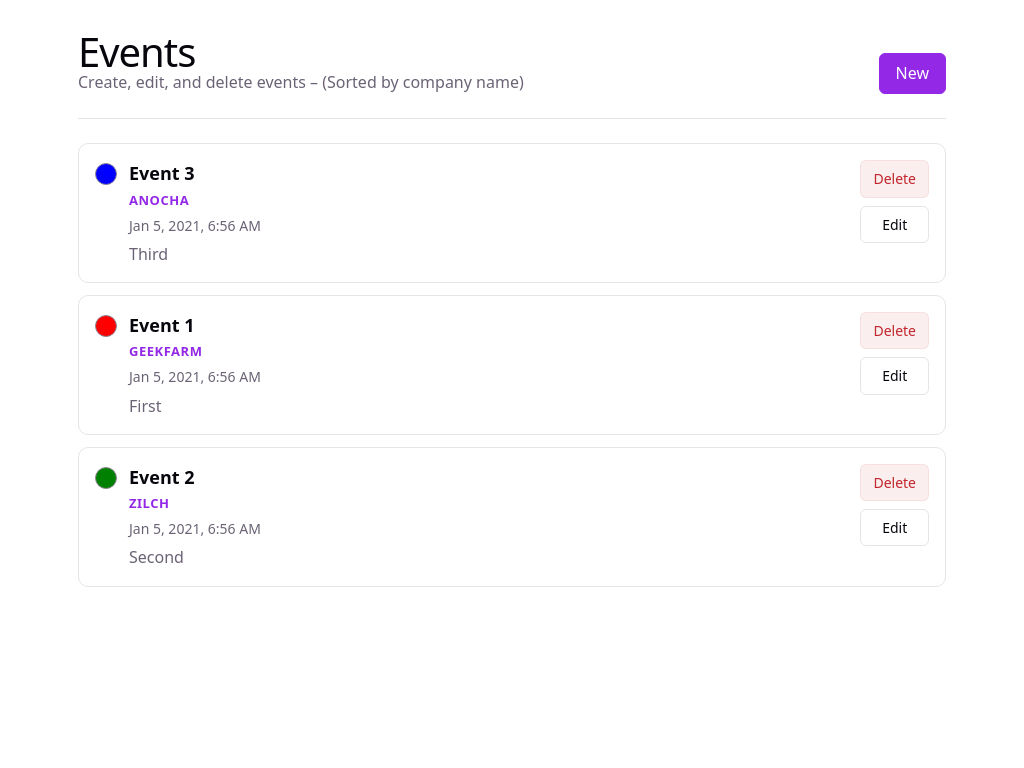
Scenario: focus management › starts the delete confirmation on Cancel and returns to the Delete button
Click the button with aria-label "Delete Event 2" at (895,482), box x1=860 y1=464 x2=929 y2=501
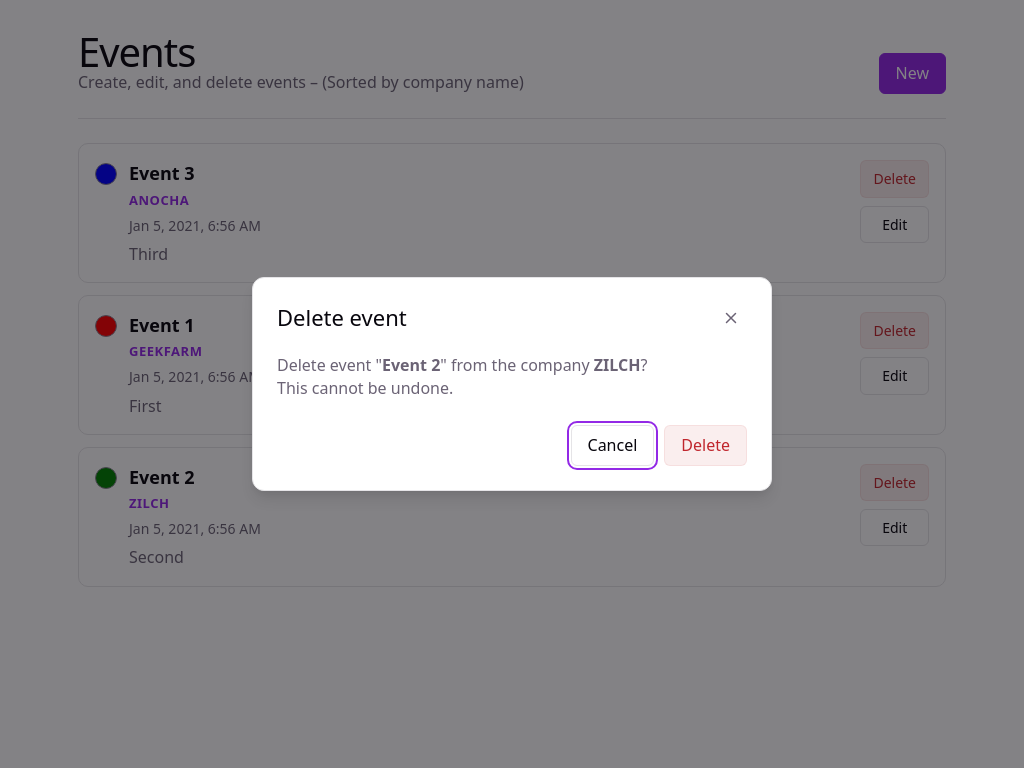
Press Enter
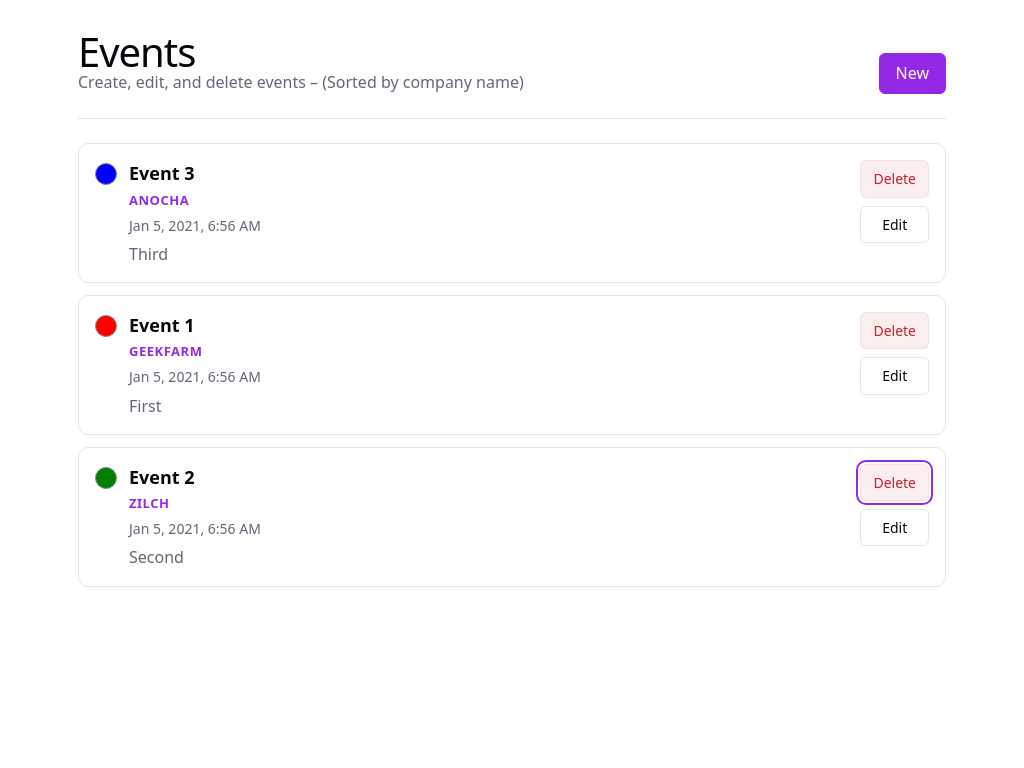
Check: the dialog is gone
